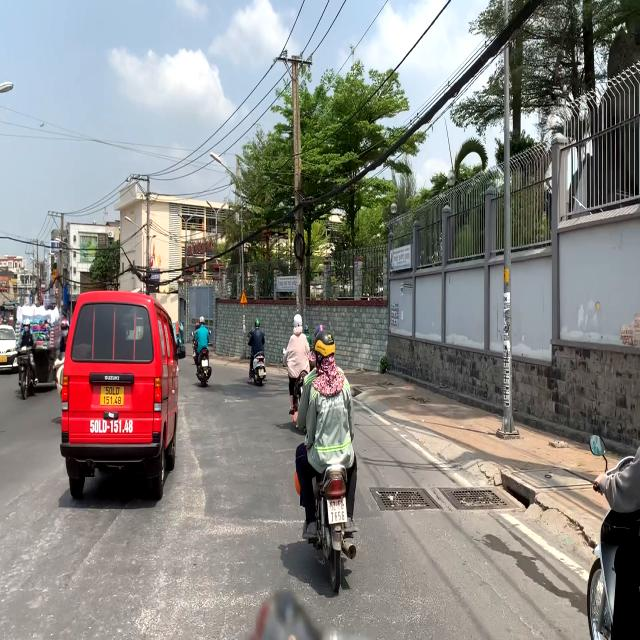W.203c: (239, 290, 248, 305)
